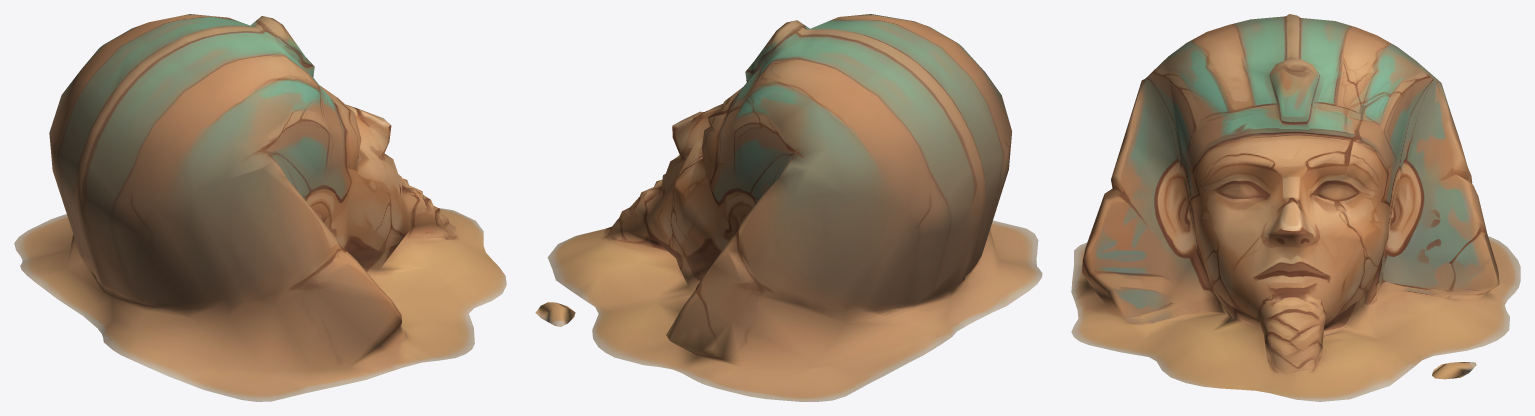
Rendered from map_colossus_tripo.glb.
3 renders of one model, left to right at view 1: azimuth 30°, elevation 25°; view 2: azimuth 150°, elevation 25°; view 3: azimuth 270°, elevation 25°, orthographic. The views are drawn at different scales.
Parts seen in each view (by area): view 1: tripo_node_638030be-eb7b-491e-9cd4-6a9d54ec36e4; view 2: tripo_node_638030be-eb7b-491e-9cd4-6a9d54ec36e4; view 3: tripo_node_638030be-eb7b-491e-9cd4-6a9d54ec36e4.
Part boxes in pixels (box(x1,y1,x2,y2)): tripo_node_638030be-eb7b-491e-9cd4-6a9d54ec36e4: box(14, 14, 506, 401); tripo_node_638030be-eb7b-491e-9cd4-6a9d54ec36e4: box(535, 14, 1042, 401); tripo_node_638030be-eb7b-491e-9cd4-6a9d54ec36e4: box(1071, 14, 1520, 401).
Size of the model in its own units: 0.9863 by 0.6074 by 0.998.
1 material, 1 textured.
